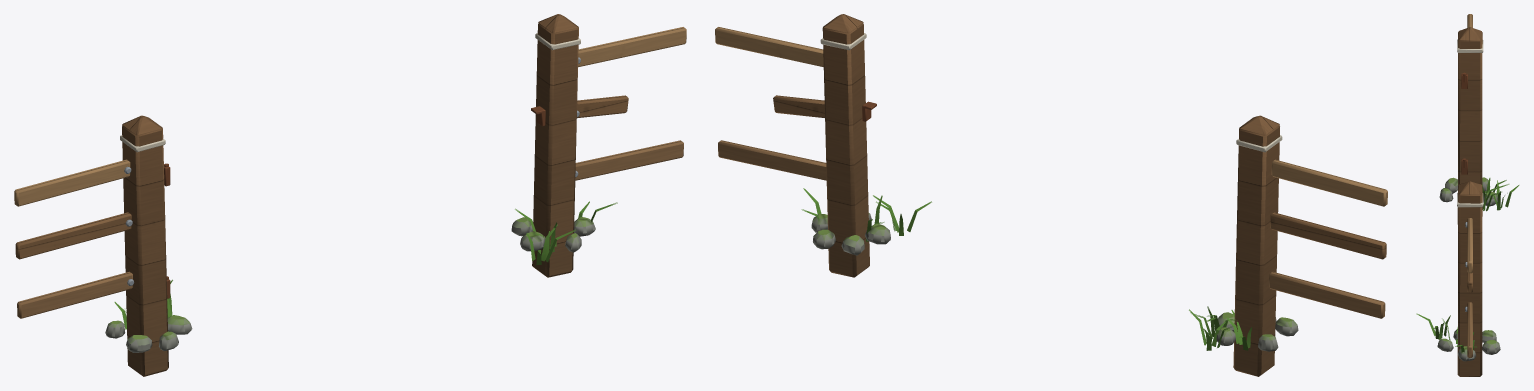
The model's file is field_gate_post_pair.glb.
3 renders of one model, left to right at view 1: azimuth 30°, elevation 25°; view 2: azimuth 150°, elevation 25°; view 3: azimuth 270°, elevation 25°, orthographic. The views are drawn at different scales.
Visible parts, largest first — view 1: field_gate_post_pair; view 2: field_gate_post_pair; view 3: field_gate_post_pair.
Boxes of the visible parts, x1,y1,x2,y2 form: field_gate_post_pair: (14,14,686,376); field_gate_post_pair: (715,14,1387,376); field_gate_post_pair: (1416,14,1519,376).
Bounding box in the file's own units: 5.29 × 1.92 × 0.9318.
Materials: 10 (10 with a texture image).
